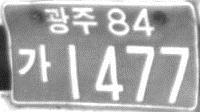1: (64, 41, 82, 101)
4: (94, 43, 124, 102), (131, 7, 154, 36)
7: (158, 45, 190, 106), (125, 43, 155, 102)
8: (106, 6, 130, 36)
가: (17, 43, 53, 85)
광주_O: (43, 6, 98, 35)
